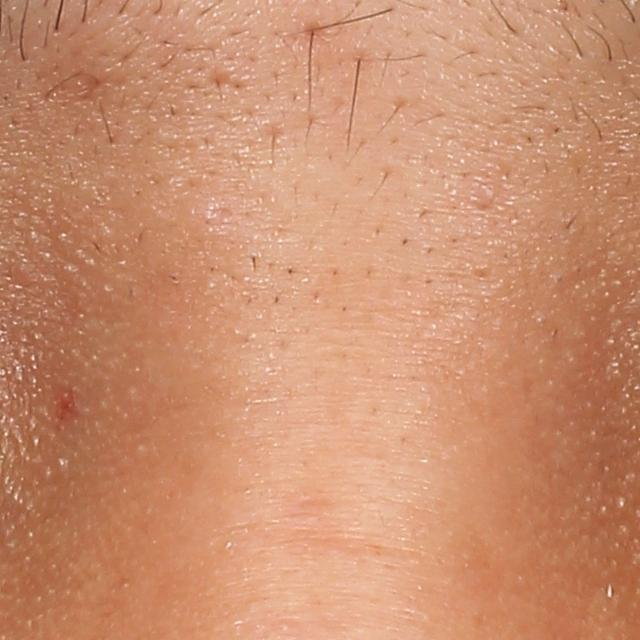nevus: (48, 384, 82, 431)
